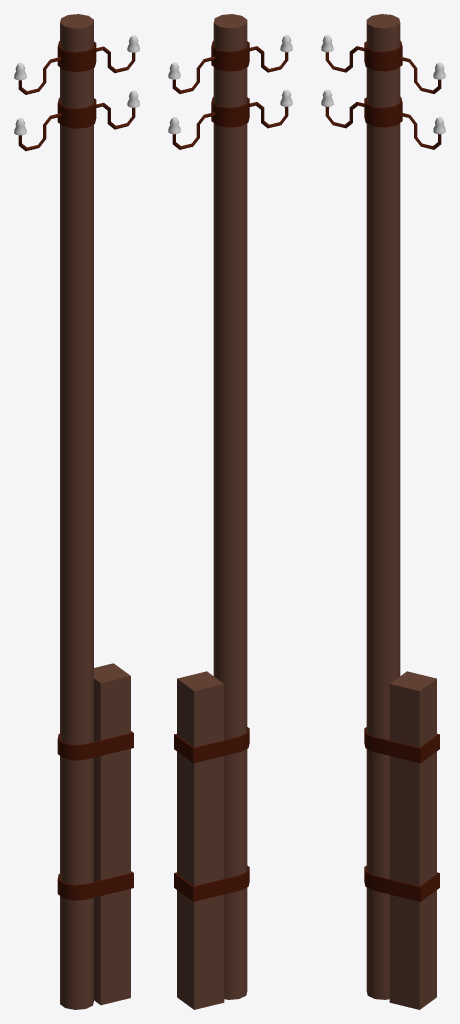
The model's file is Pillar1.fbx.
The picture shows the model from 3 angles, left to right: view 1: azimuth 30°, elevation 25°; view 2: azimuth 210°, elevation 25°; view 3: azimuth 330°, elevation 25°; orthographic projection.
Visible parts, largest first — view 1: Pillar.005; view 2: Pillar.005; view 3: Pillar.005.
Boxes of the visible parts, box(x1,y1,x2,y2) form: Pillar.005: box(14, 14, 139, 1009); Pillar.005: box(168, 14, 292, 1009); Pillar.005: box(321, 14, 445, 1009).
Size of the model in its own units: 72.22 by 547 by 19.95.
